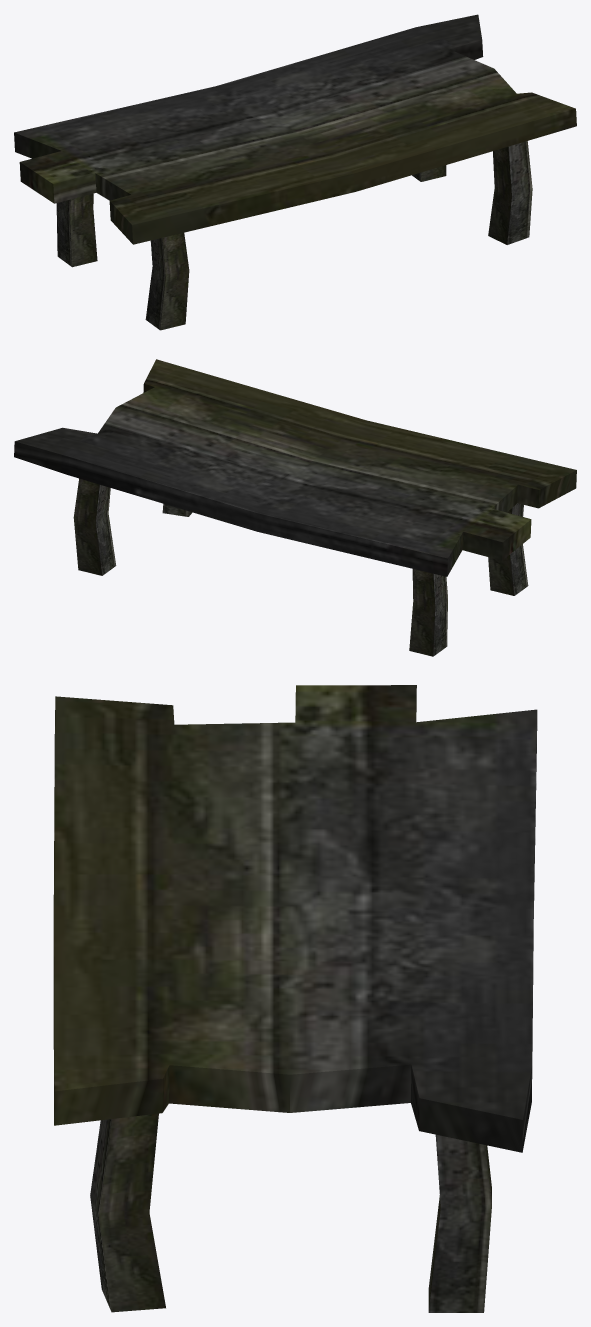
File: Battle05_Desk_01.FBX
The picture shows the model from 3 angles, top to bottom: view 1: azimuth 30°, elevation 25°; view 2: azimuth 150°, elevation 25°; view 3: azimuth 270°, elevation 25°; orthographic projection. The views are drawn at different scales.
Parts seen in each view (by area): view 1: Battle05_Desk_01; view 2: Battle05_Desk_01; view 3: Battle05_Desk_01.
Part boxes in pixels (x1=…): Battle05_Desk_01: x1=14, y1=14, x2=576, y2=330; Battle05_Desk_01: x1=14, y1=359, x2=576, y2=656; Battle05_Desk_01: x1=53, y1=685, x2=537, y2=1312.
Size of the model in its own units: 3.53 by 0.9138 by 1.6.
